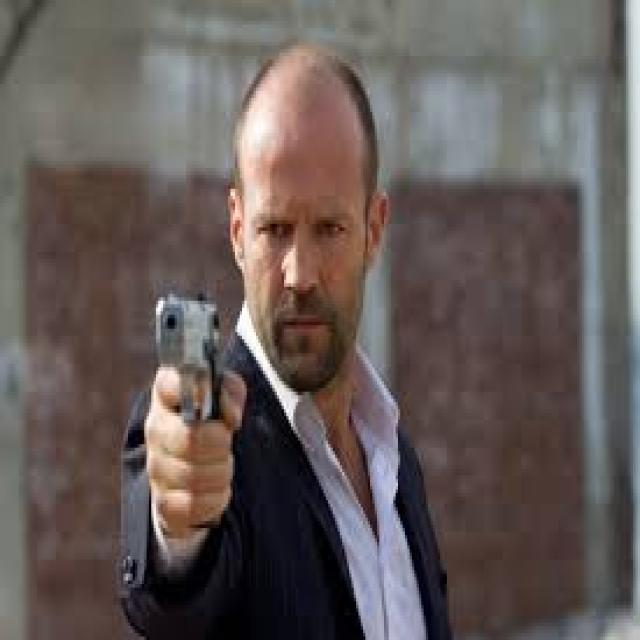weapons: (144, 271, 230, 492)
